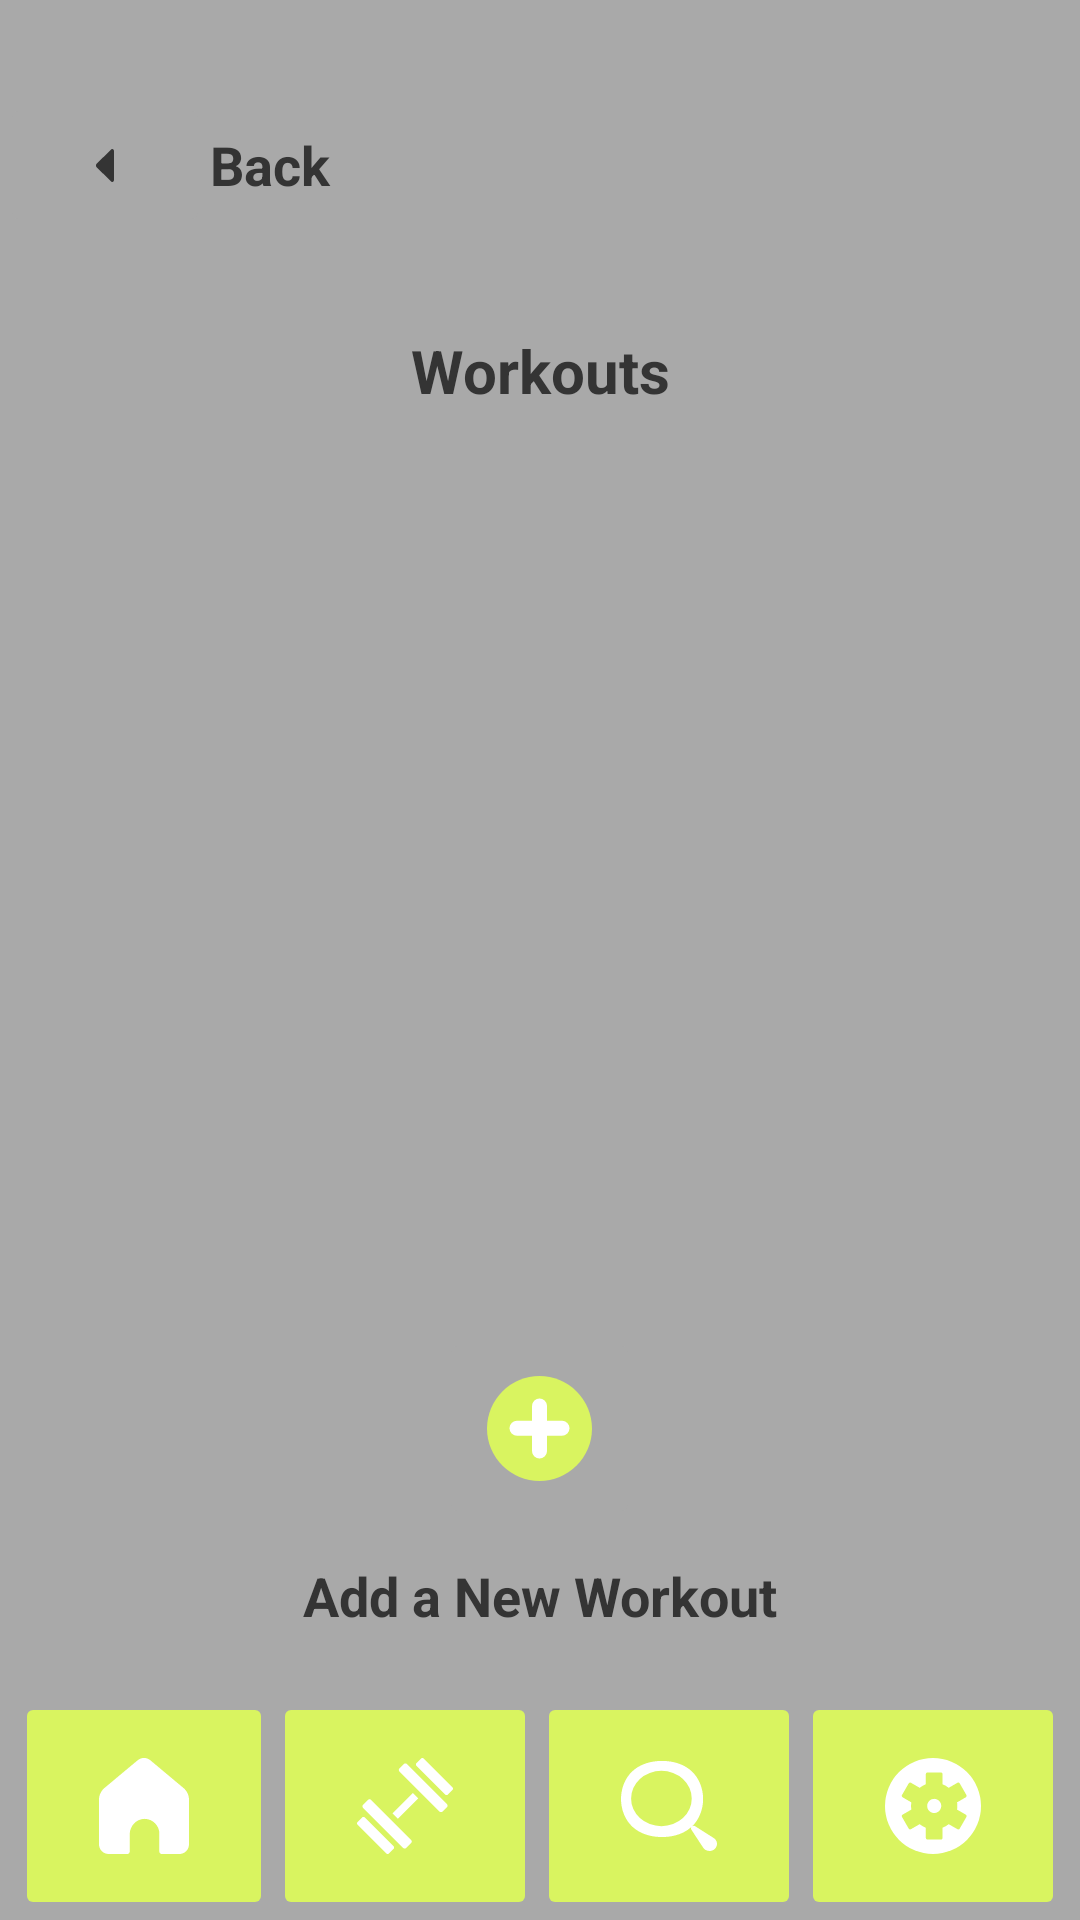

Icon bounding boxes for this 1080x1920 phone screenshot, format (x1, y1, x2, y2):
Create Workout: (487, 1376, 592, 1481)
Go to Settings: (813, 1710, 1053, 1902)
Go to the Home Page: (27, 1710, 261, 1902)
Search for a Workout: (549, 1710, 789, 1902)
View your Workouts: (285, 1710, 525, 1902)
